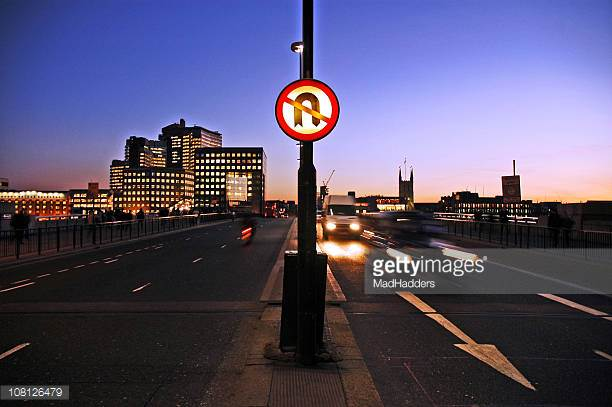No_u_turn: (275, 78, 341, 141)
